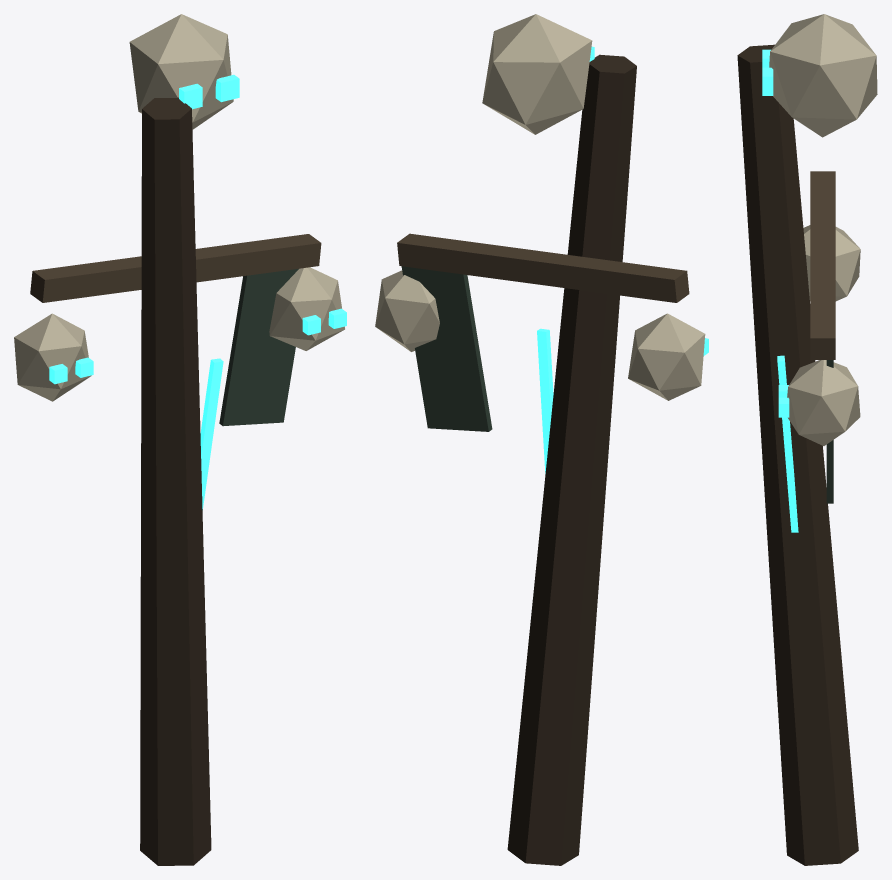
File: decor_totem.glb
The picture shows the model from 3 angles, left to right: view 1: azimuth 30°, elevation 25°; view 2: azimuth 150°, elevation 25°; view 3: azimuth 270°, elevation 25°; orthographic projection.
Visible parts, largest first — view 1: decor_totem; view 2: decor_totem; view 3: decor_totem.
Part boxes in pixels (left/top/right/bottom): decor_totem: left=14, top=14, right=346, bottom=865; decor_totem: left=375, top=14, right=708, bottom=865; decor_totem: left=737, top=14, right=877, bottom=865.
Bounding box in the file's own units: 1.03 × 2.59 × 0.3888.
